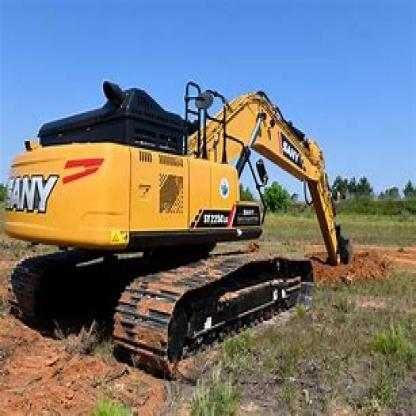excavator: (18, 58, 371, 367)
